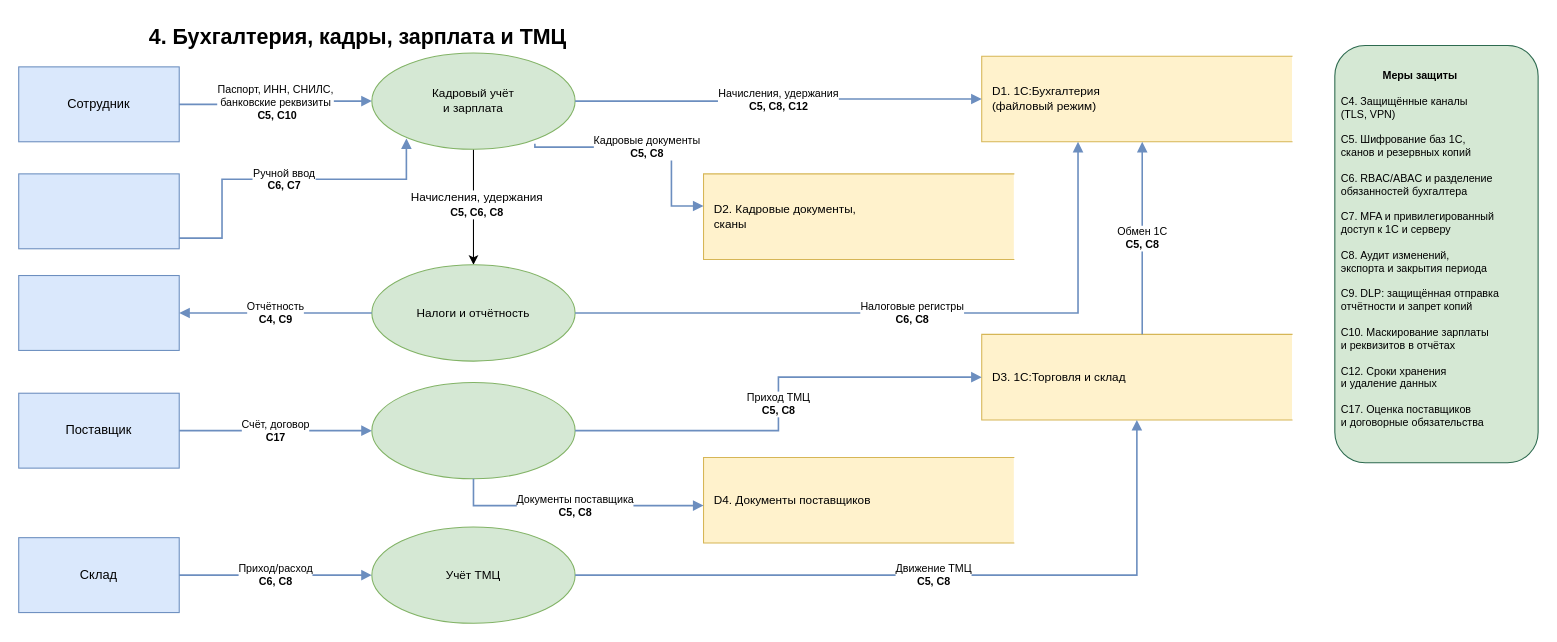
Some shapes in this 1557 by 642 pixel diagram are drawn without their labels. Each missing label, with the centre of its shape:
Бухгалтер: the point at 98,211
Закупки и приёмка: the point at 473,430
ФНС / СФР: the point at 98,312
